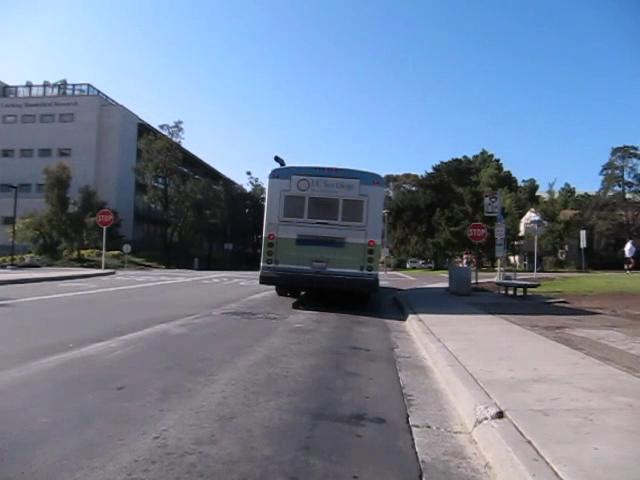stop: (464, 220, 488, 245), (95, 208, 114, 227)
